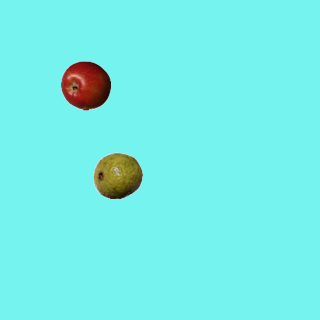Apple Braeburn: (60, 60, 110, 110)
Guava: (92, 150, 142, 200)
